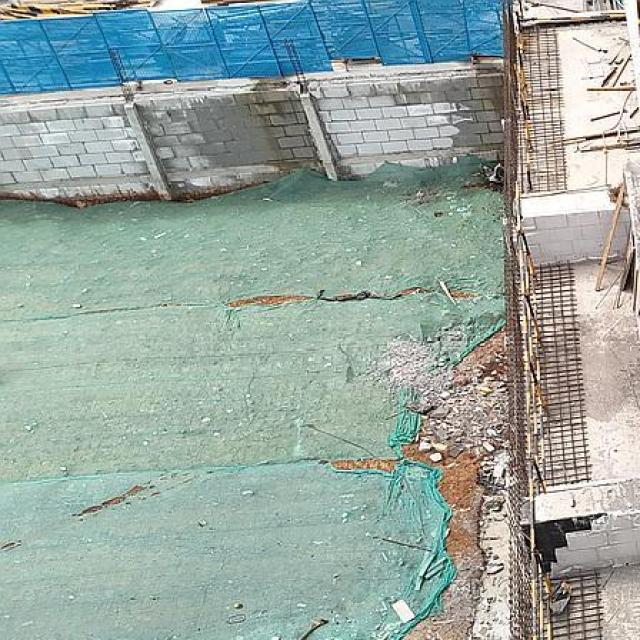edge_guardrail: (513, 178, 553, 640), (515, 31, 534, 190), (520, 15, 624, 22)
